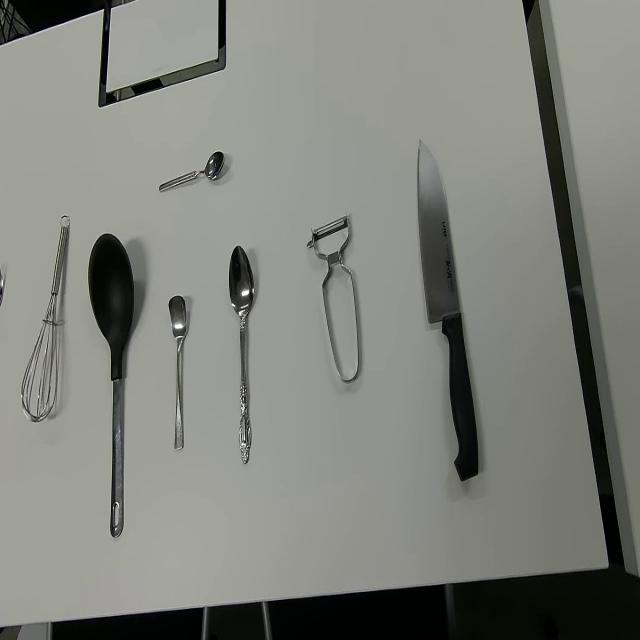Desert-Spoon: (228, 244, 254, 465)
Dinner-Fork: (0, 264, 4, 312)
Kitchen-Knife: (418, 138, 480, 484)
Peeler: (306, 212, 360, 384)
Serving-Spoon: (87, 232, 135, 539)
Tea-Spoon: (167, 294, 188, 452), (158, 149, 225, 193)
Whisk: (20, 214, 70, 423)
